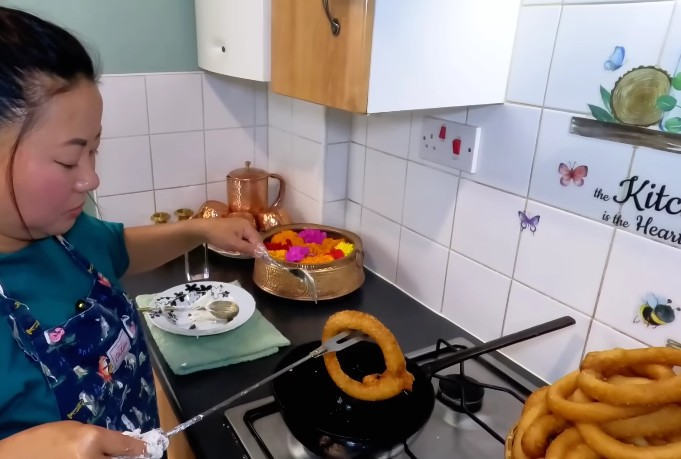sel_roti: (319, 309, 409, 403), (586, 344, 681, 406)
